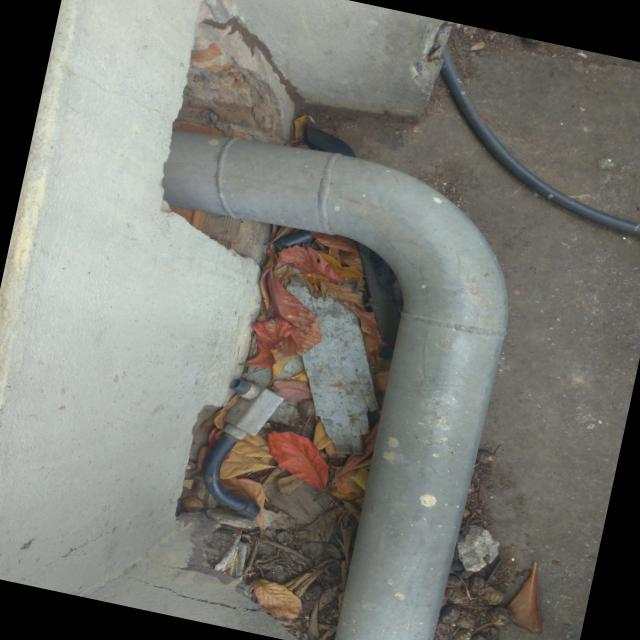gas: (332, 309, 507, 640), (162, 120, 394, 250)
